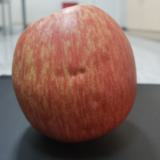apple: (13, 3, 137, 141)
